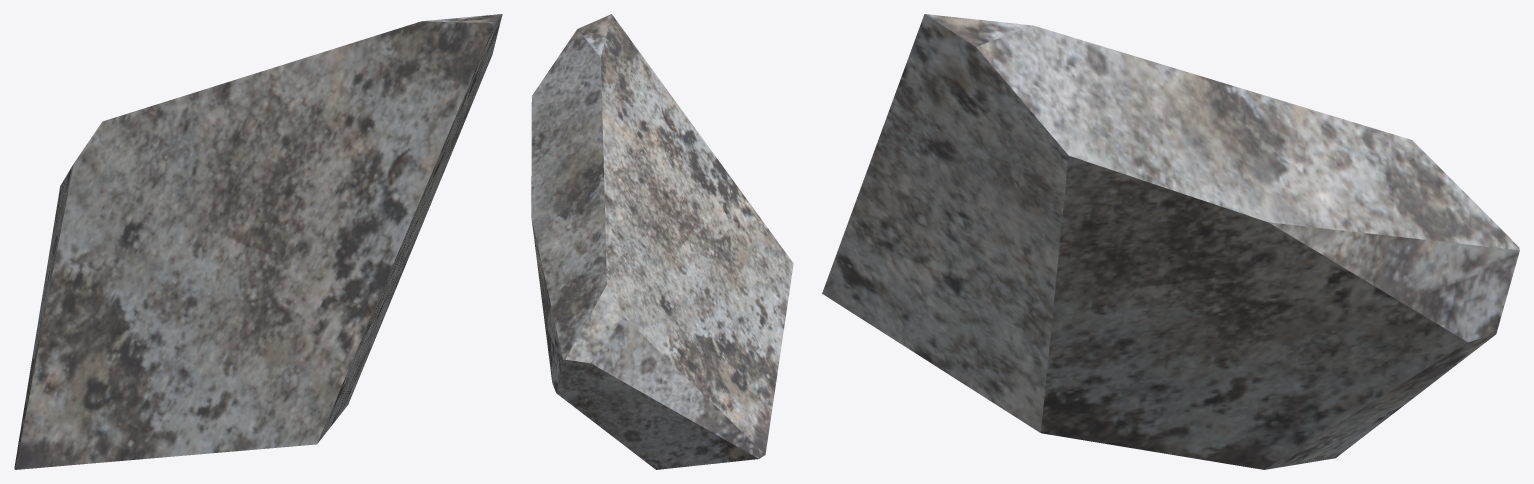
Rendered from Asteroid_Large_001_02_008_03_011.fbx.
The picture shows the model from 3 angles, left to right: view 1: azimuth 30°, elevation 25°; view 2: azimuth 150°, elevation 25°; view 3: azimuth 270°, elevation 25°; orthographic projection. The views are drawn at different scales.
Visible parts, largest first — view 1: Asteroid_Large_001_02_008_03_011; view 2: Asteroid_Large_001_02_008_03_011; view 3: Asteroid_Large_001_02_008_03_011.
Part boxes in pixels (x1=…): Asteroid_Large_001_02_008_03_011: x1=14, y1=14, x2=502, y2=469; Asteroid_Large_001_02_008_03_011: x1=531, y1=14, x2=793, y2=469; Asteroid_Large_001_02_008_03_011: x1=822, y1=14, x2=1519, y2=469.
Size of the model in its own units: 8.35 by 9.36 by 10.16.
